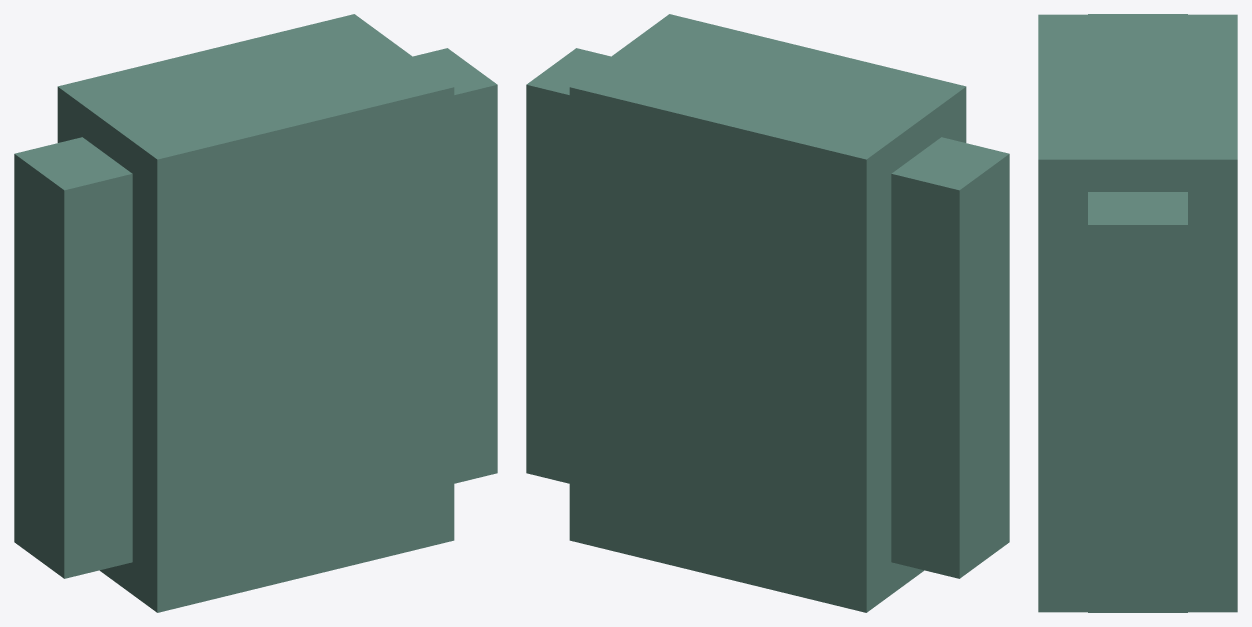
Rendered from insulated_parka.glb.
3 renders of one model, left to right at view 1: azimuth 30°, elevation 25°; view 2: azimuth 150°, elevation 25°; view 3: azimuth 270°, elevation 25°, orthographic.
Parts seen in each view (by area): view 1: garment, sleeve_l, sleeve_r; view 2: garment, sleeve_l, sleeve_r; view 3: garment, sleeve_r.
Boxes of the visible parts, <box> form: garment: <box>57,14,454,612</box>; sleeve_l: <box>14,137,132,578</box>; sleeve_r: <box>413,48,497,483</box>; garment: <box>569,14,966,612</box>; sleeve_l: <box>891,137,1009,578</box>; sleeve_r: <box>526,48,610,483</box>; garment: <box>1038,14,1237,612</box>; sleeve_r: <box>1088,192,1187,612</box>.
Bounding box in the file's own units: 0.7001 × 0.7002 × 0.2798.
